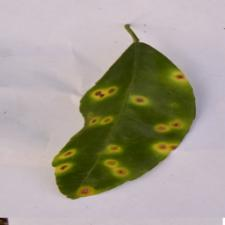Canker: (72, 62, 204, 197)
